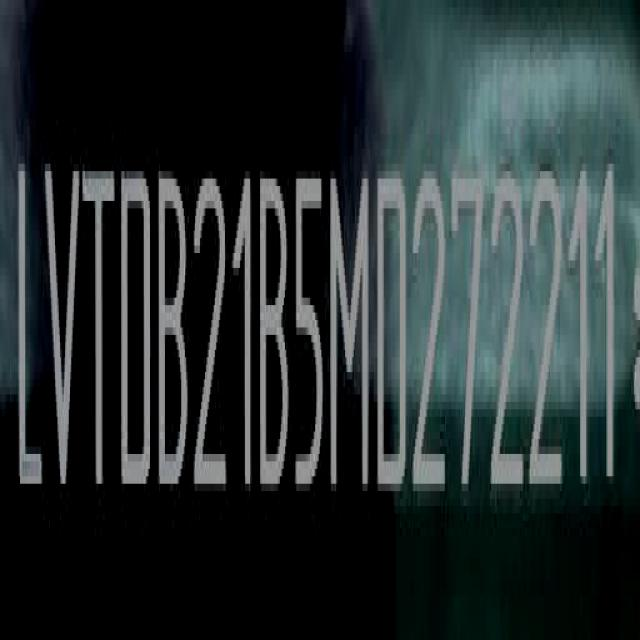1: (567, 160, 590, 490), (596, 157, 617, 482), (233, 179, 254, 491)
2: (194, 151, 231, 499), (410, 162, 448, 490), (529, 165, 563, 488), (491, 168, 524, 488)
5: (294, 168, 324, 491)
B: (155, 163, 189, 493), (258, 166, 290, 494)
D: (374, 160, 408, 496), (119, 162, 152, 490)
L: (15, 152, 43, 502)
M: (329, 165, 371, 496), (452, 166, 486, 494)
T: (82, 151, 116, 499)
V: (42, 149, 82, 485)
